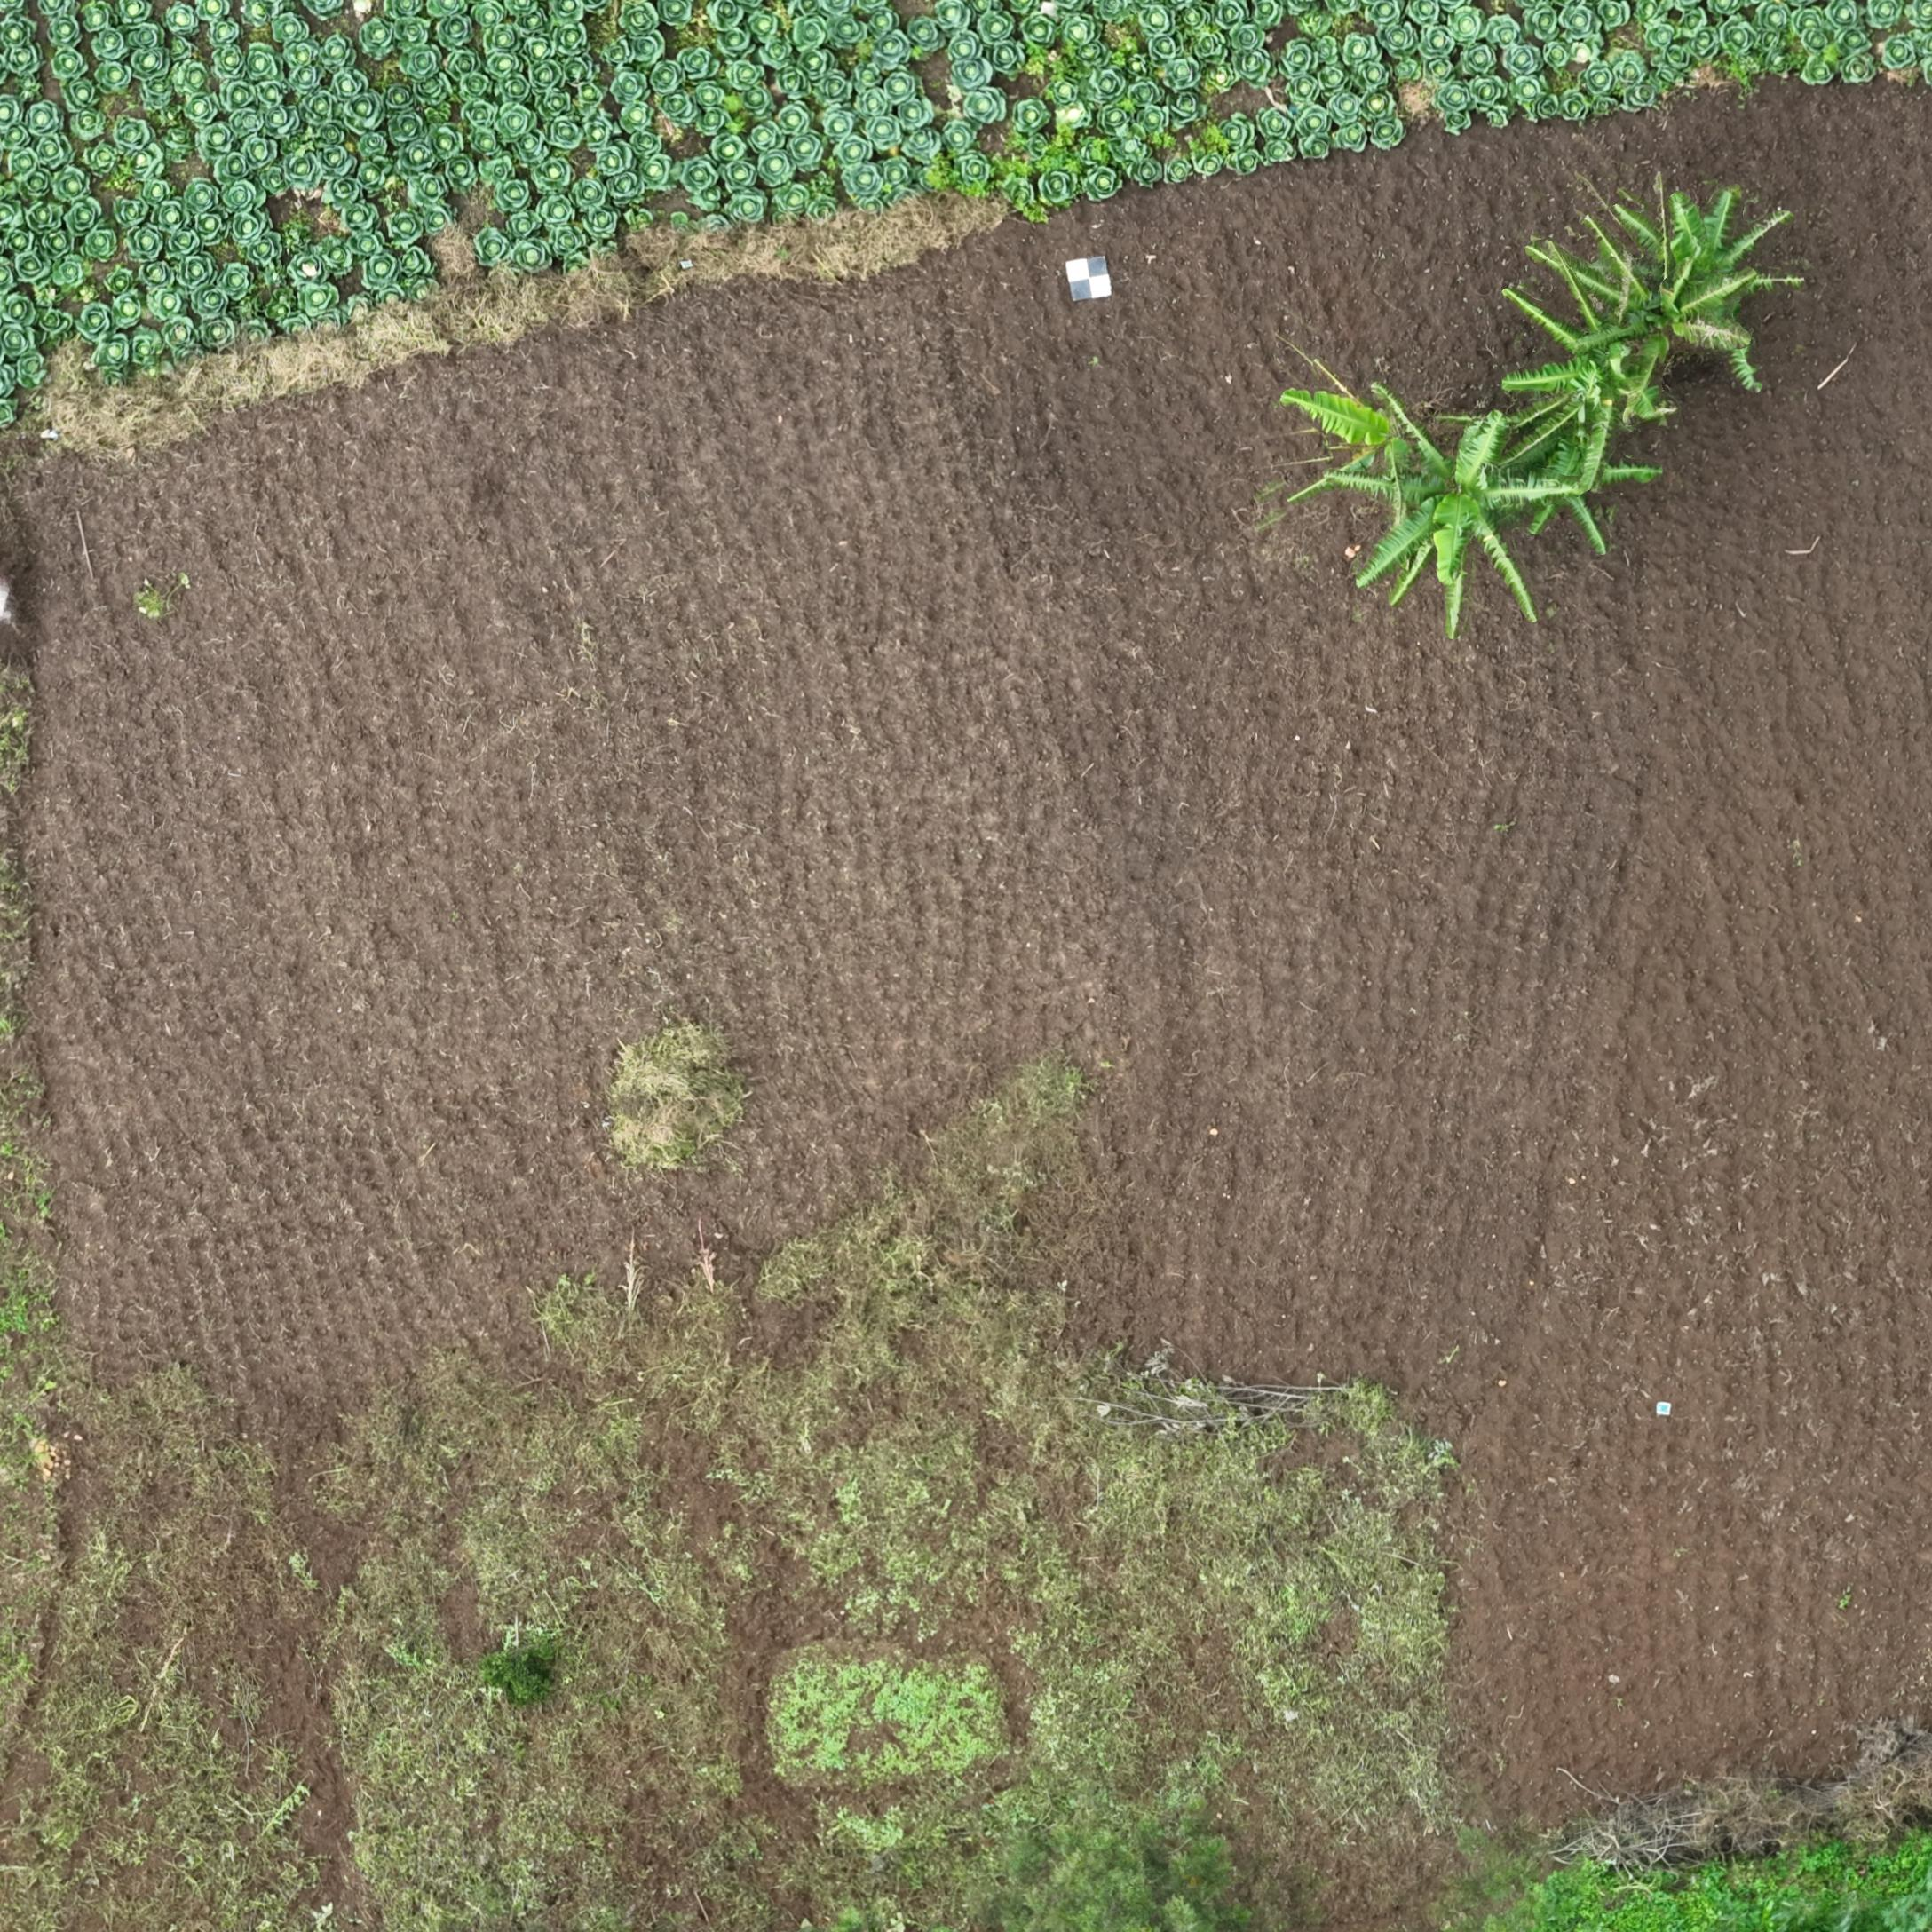Banana: (1557, 265, 1776, 465), (1628, 209, 1845, 409), (1318, 395, 1500, 510)
